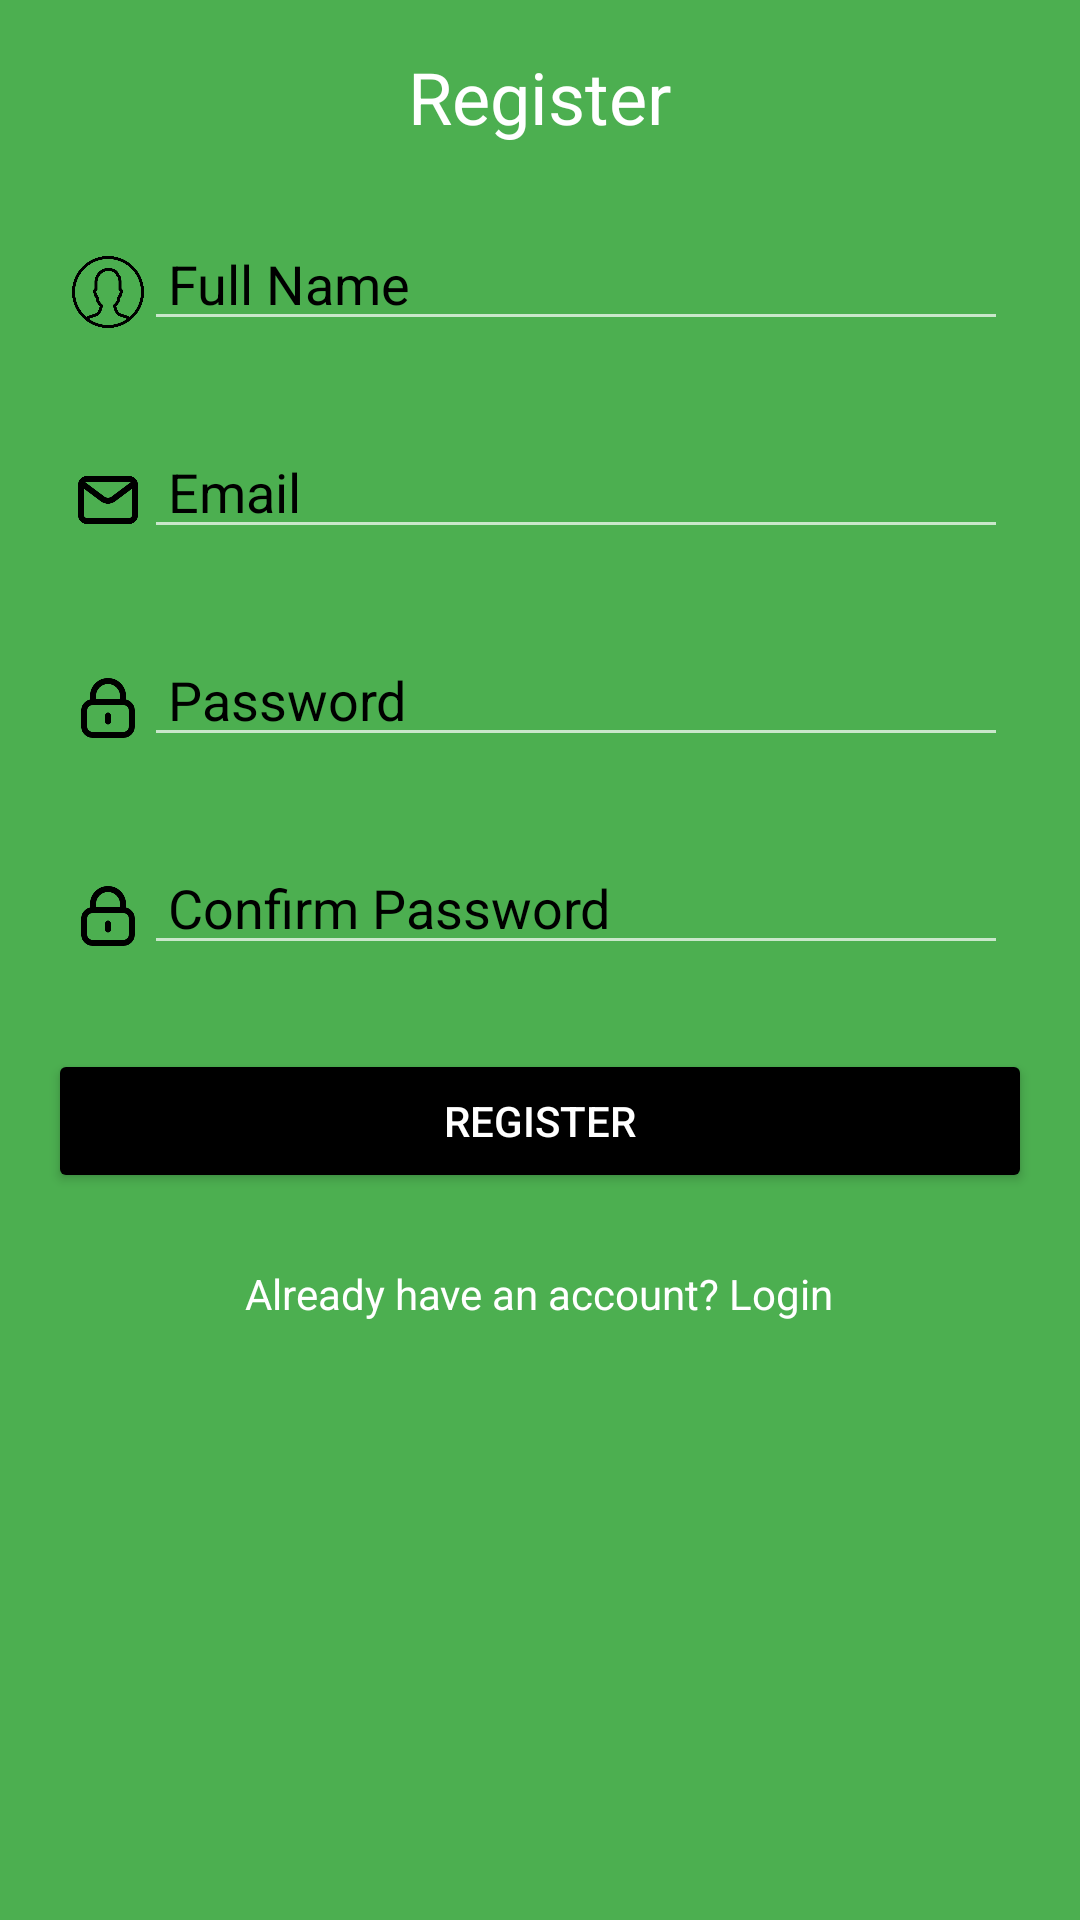

Named icons in this screenshot (1080px x 1920px) and their bounding boxes, [x1, y1, x2, y2]:
User Icon: [72, 256, 144, 328]
